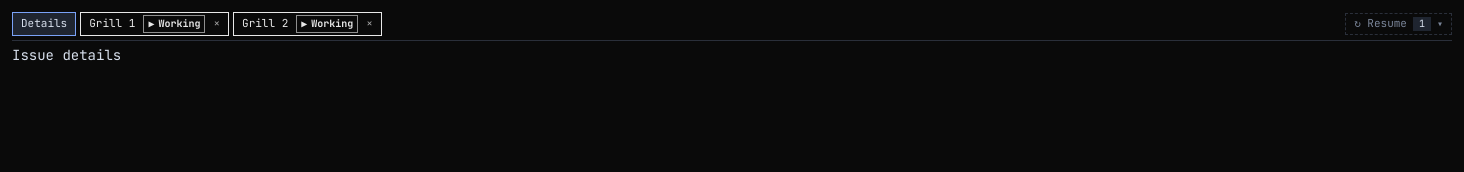
Test: overhaul acceptance — terminals › [overhaul-112] rebuilds launch labels, provider styling and ordinals from the authoritative records after a reload
Click the button with test id "dormant-tabs-trigger" at [1399, 24], box [1345, 13, 1452, 35]
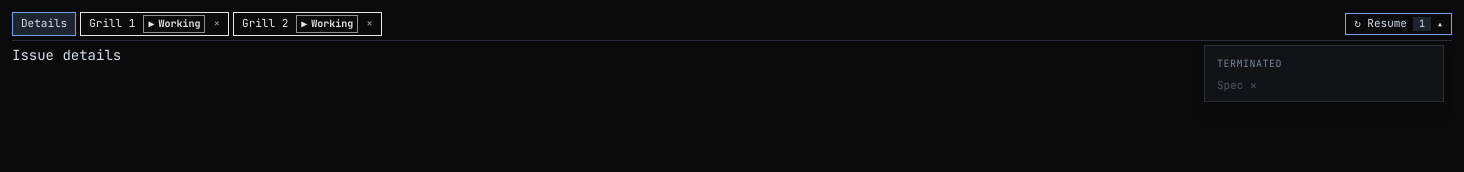
Check: the menu item with aria-label "Terminated Spec codex terminal" shows "Spec", box [1217, 78, 1257, 92]
